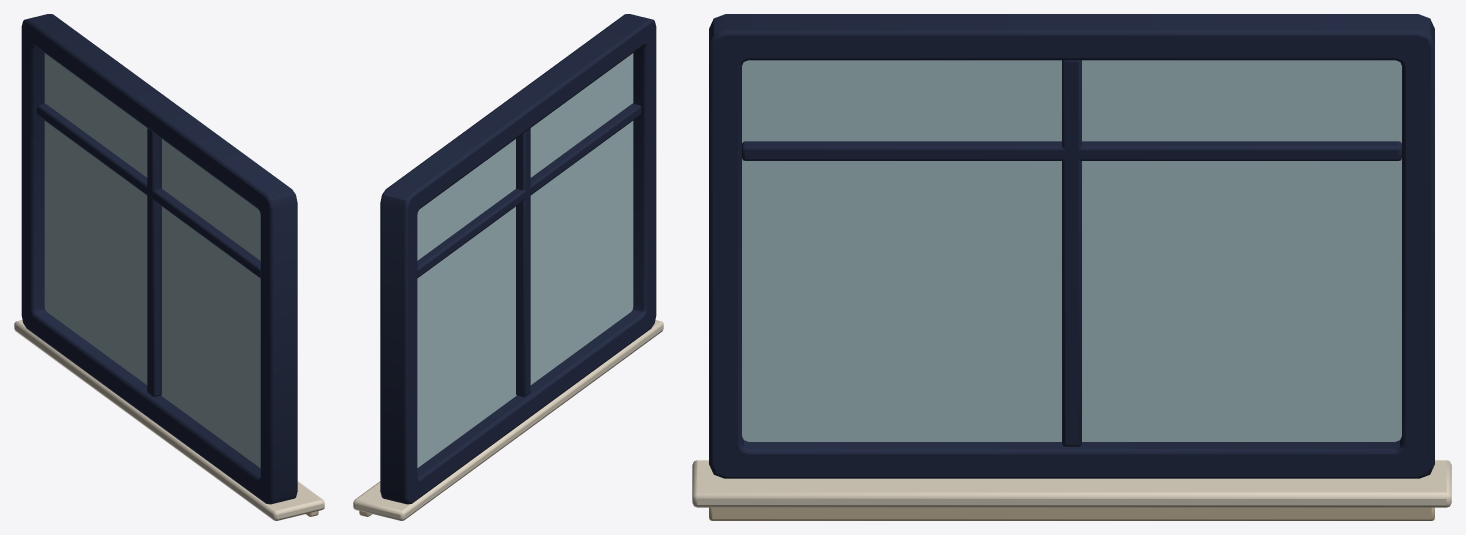
File: window.glb
3 views of the same model, side by side, from view 1: azimuth 30°, elevation 25°; view 2: azimuth 150°, elevation 25°; view 3: azimuth 270°, elevation 25° (orthographic). The views are drawn at different scales.
Parts seen in each view (by area): view 1: Glass, Frame; view 2: Glass, Frame; view 3: Glass, Frame.
Part boxes in pixels (left/top/right/bottom): Glass: left=44, top=53, right=260, bottom=467; Frame: left=14, top=14, right=324, bottom=520; Glass: left=417, top=53, right=633, bottom=467; Frame: left=353, top=14, right=663, bottom=520; Glass: left=742, top=60, right=1401, bottom=441; Frame: left=692, top=14, right=1451, bottom=520.
Size of the model in its own units: 0.26 by 1.59 by 2.3.
